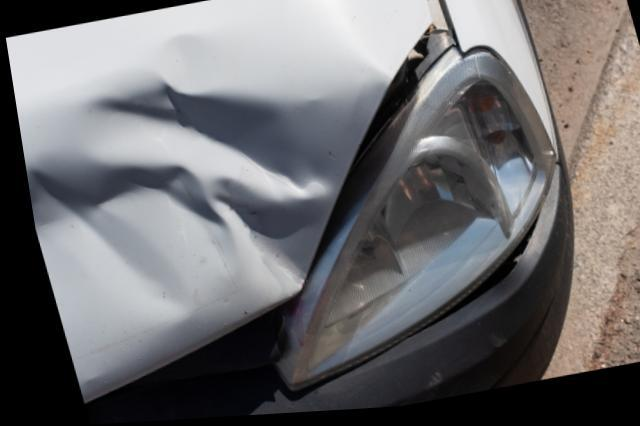dent: (16, 32, 358, 398)
dislocated part: (5, 0, 452, 425)
